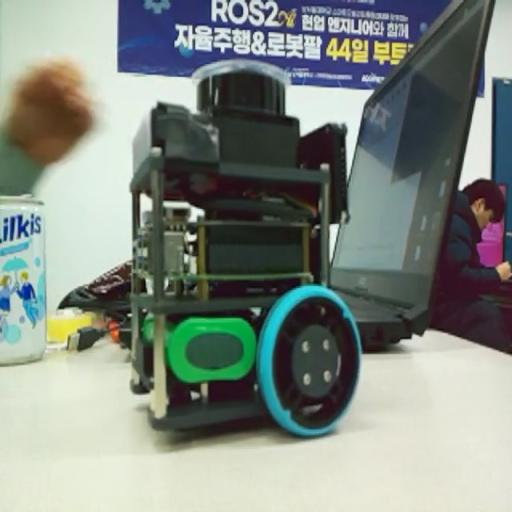pinky_63: (126, 64, 366, 442)
